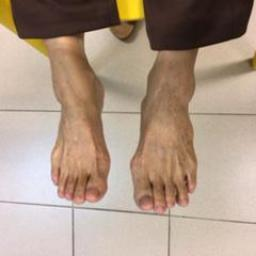Dorsal View -Both Feet-: (28, 34, 208, 215)
